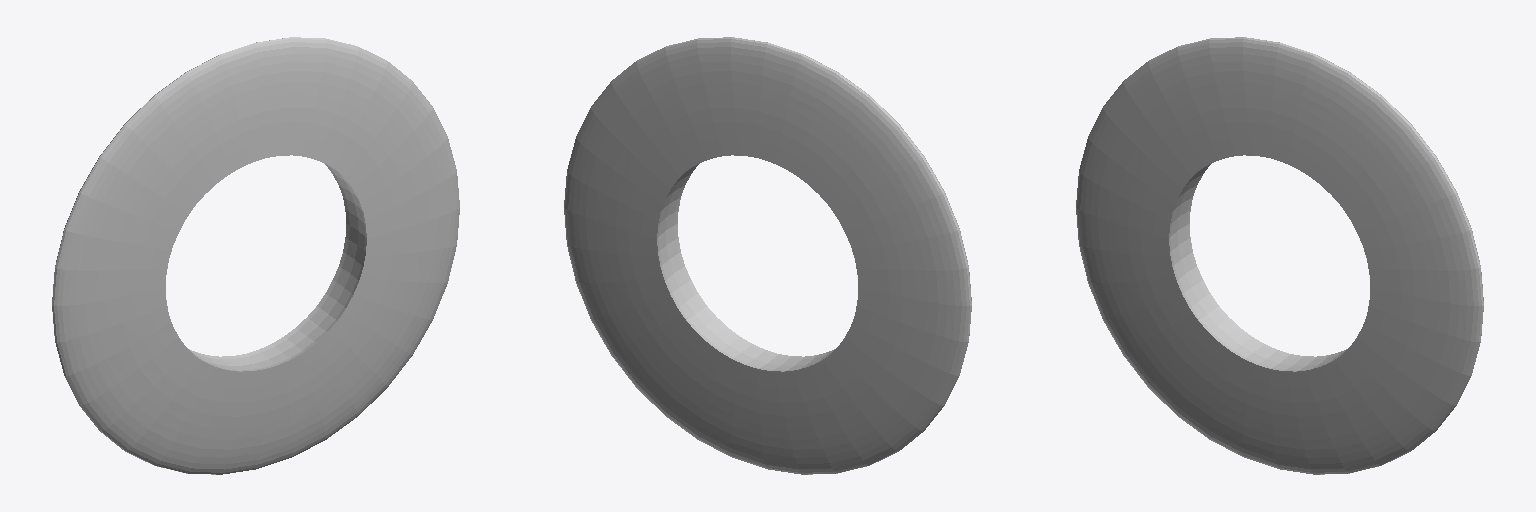
The model's file is nukesmoke.obj.
3 renders of one model, left to right at view 1: azimuth 30°, elevation 25°; view 2: azimuth 150°, elevation 25°; view 3: azimuth 330°, elevation 25°, orthographic.
Parts seen in each view (by area): view 1: obj_0; view 2: obj_0; view 3: obj_0.
Boxes of the visible parts, x1,y1,x2,y2 form: obj_0: [52, 37, 459, 474]; obj_0: [564, 37, 971, 474]; obj_0: [1076, 37, 1483, 474].
Size of the model in its own units: 2 by 2 by 0.1748.